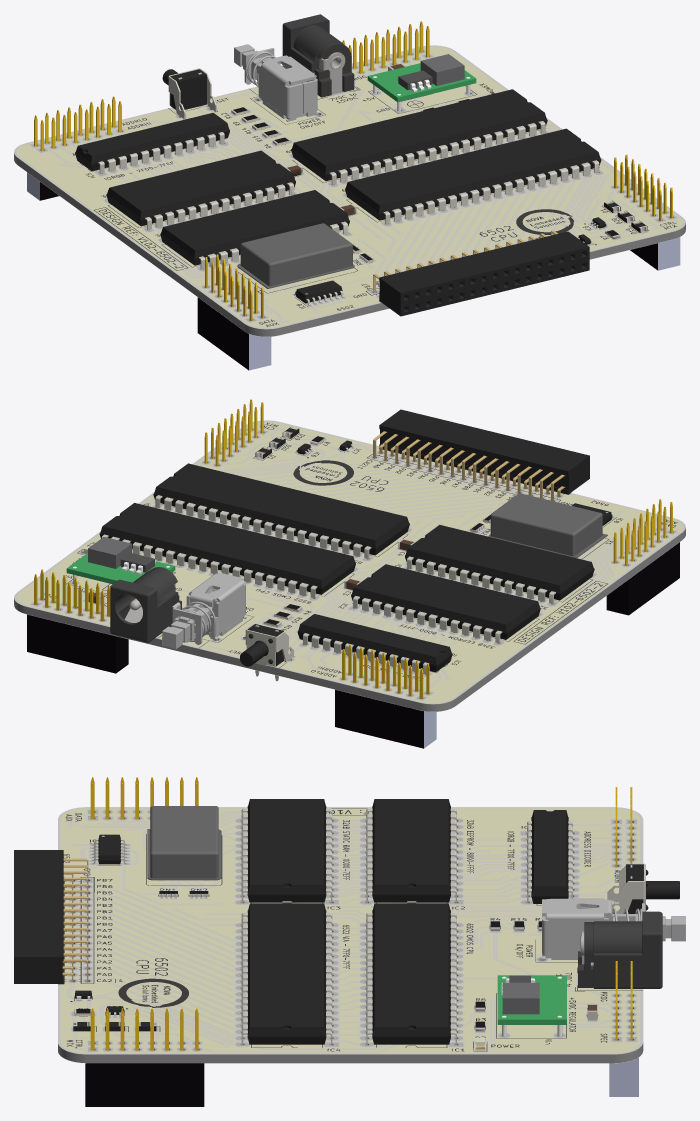
The picture shows the model from 3 angles, top to bottom: view 1: azimuth 30°, elevation 25°; view 2: azimuth 150°, elevation 25°; view 3: azimuth 270°, elevation 25°; orthographic projection. The views are drawn at different scales.
Parts seen in each view (by area): view 1: IC8, =>[0:1:1:38], =>[0:1:1:33], JA4, R12, =>[0:1:1:40], X1, SW2, PL1, =>[0:1:1:36], =>[0:1:1:34], module-pcb (+2 smaller); view 2: IC8, =>[0:1:1:38], =>[0:1:1:33], JA4, R12, =>[0:1:1:40], X1, SW2, PL1, =>[0:1:1:36], =>[0:1:1:34], J1 (+2 smaller); view 3: =>[0:1:1:38], IC8, =>[0:1:1:33], JA4, =>[0:1:1:34], R12, =>[0:1:1:40], PL1, X1, =>[0:1:1:36], SW2, module-pcb (+2 smaller).
Part boxes in pixels (x1=…): IC8: x1=75, y1=69, x2=647, y2=316; =>[0:1:1:38]: x1=14, y1=45, x2=685, y2=336; =>[0:1:1:33]: x1=17, y1=47, x2=682, y2=327; JA4: x1=27, y1=21, x2=680, y2=370; R12: x1=98, y1=63, x2=647, y2=305; =>[0:1:1:40]: x1=14, y1=46, x2=685, y2=336; X1: x1=237, y1=223, x2=354, y2=288; SW2: x1=234, y1=44, x2=318, y2=121; PL1: x1=282, y1=14, x2=354, y2=97; =>[0:1:1:36]: x1=72, y1=75, x2=677, y2=326; =>[0:1:1:34]: x1=30, y1=49, x2=676, y2=322; module-pcb: x1=367, y1=63, x2=476, y2=102; IC8: x1=99, y1=409, x2=612, y2=672; =>[0:1:1:38]: x1=14, y1=420, x2=685, y2=711; =>[0:1:1:33]: x1=17, y1=422, x2=682, y2=702; JA4: x1=27, y1=399, x2=679, y2=748; R12: x1=81, y1=427, x2=613, y2=681; =>[0:1:1:40]: x1=14, y1=421, x2=685, y2=711; X1: x1=488, y1=493, x2=607, y2=557; SW2: x1=162, y1=572, x2=246, y2=649; PL1: x1=110, y1=567, x2=181, y2=642; =>[0:1:1:36]: x1=44, y1=422, x2=677, y2=680; =>[0:1:1:34]: x1=30, y1=428, x2=676, y2=700; J1: x1=81, y1=431, x2=565, y2=553; =>[0:1:1:38]: x1=58, y1=807, x2=643, y2=1063; IC8: x1=14, y1=799, x2=679, y2=1044; =>[0:1:1:33]: x1=61, y1=809, x2=639, y2=1052; JA4: x1=85, y1=777, x2=638, y2=1106; =>[0:1:1:34]: x1=68, y1=810, x2=636, y2=1051; R12: x1=73, y1=808, x2=645, y2=1046; =>[0:1:1:40]: x1=58, y1=808, x2=643, y2=1063; PL1: x1=578, y1=911, x2=662, y2=988; X1: x1=147, y1=806, x2=221, y2=880; =>[0:1:1:36]: x1=58, y1=808, x2=642, y2=1051; SW2: x1=542, y1=898, x2=685, y2=960; module-pcb: x1=497, y1=975, x2=566, y2=1024.
Size of the model in its own units: 0.1 by 0.0211 by 0.1148.
